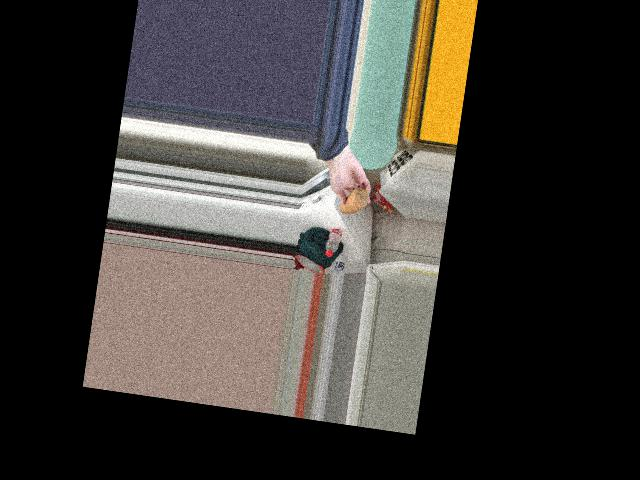sweet_potato: (335, 181, 367, 216)
